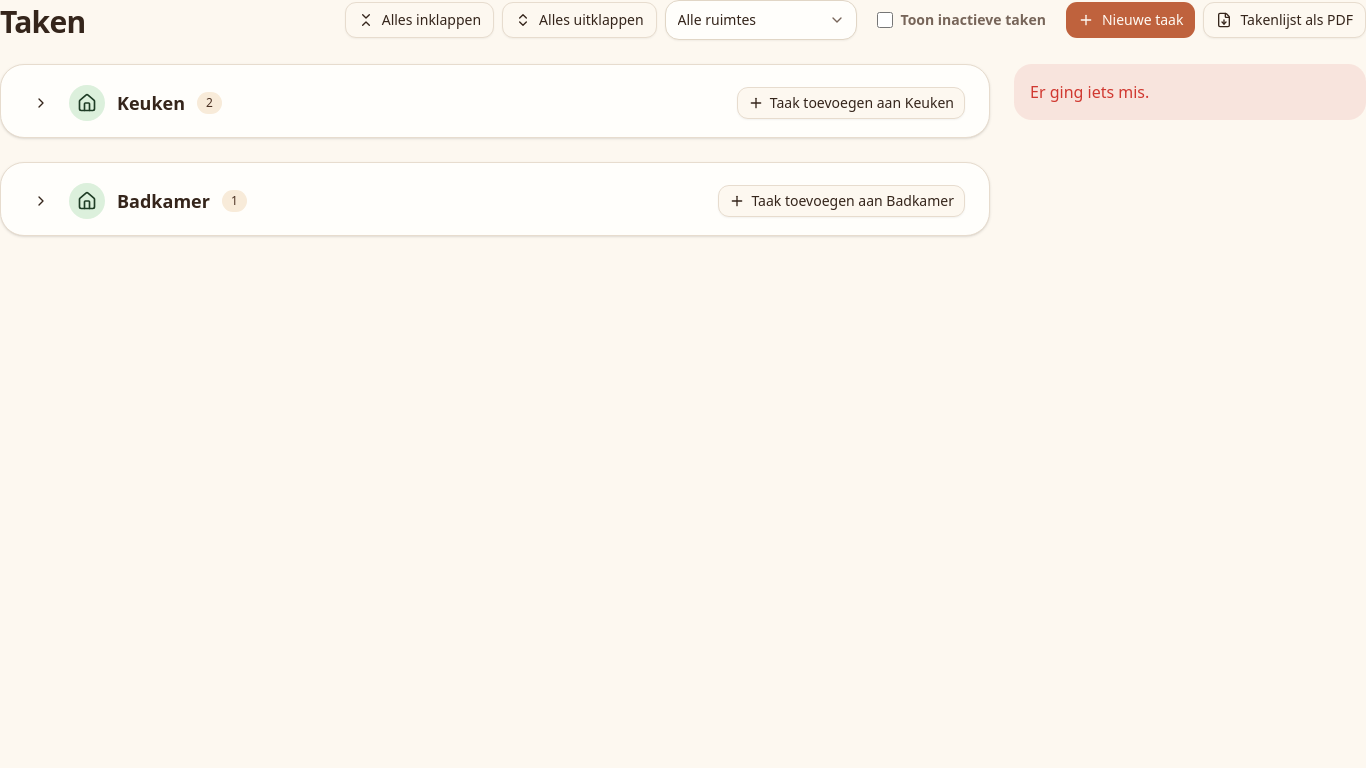
Test: TasksPage — form validation › flags every missing required field at once
Click the button "Nieuwe taak" at (1131, 20), box [1066,2,1196,38]
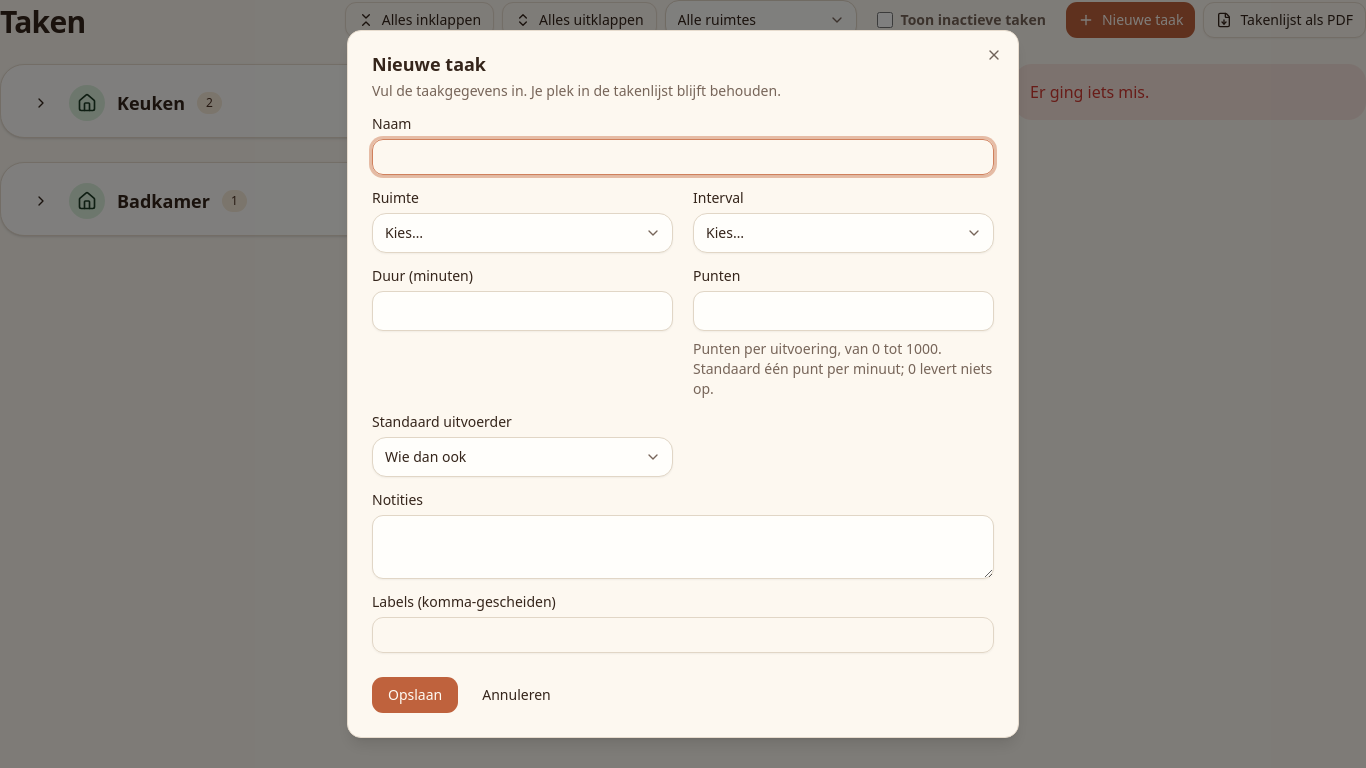
Click the button "Opslaan" at (415, 695), box [372,677,458,713]
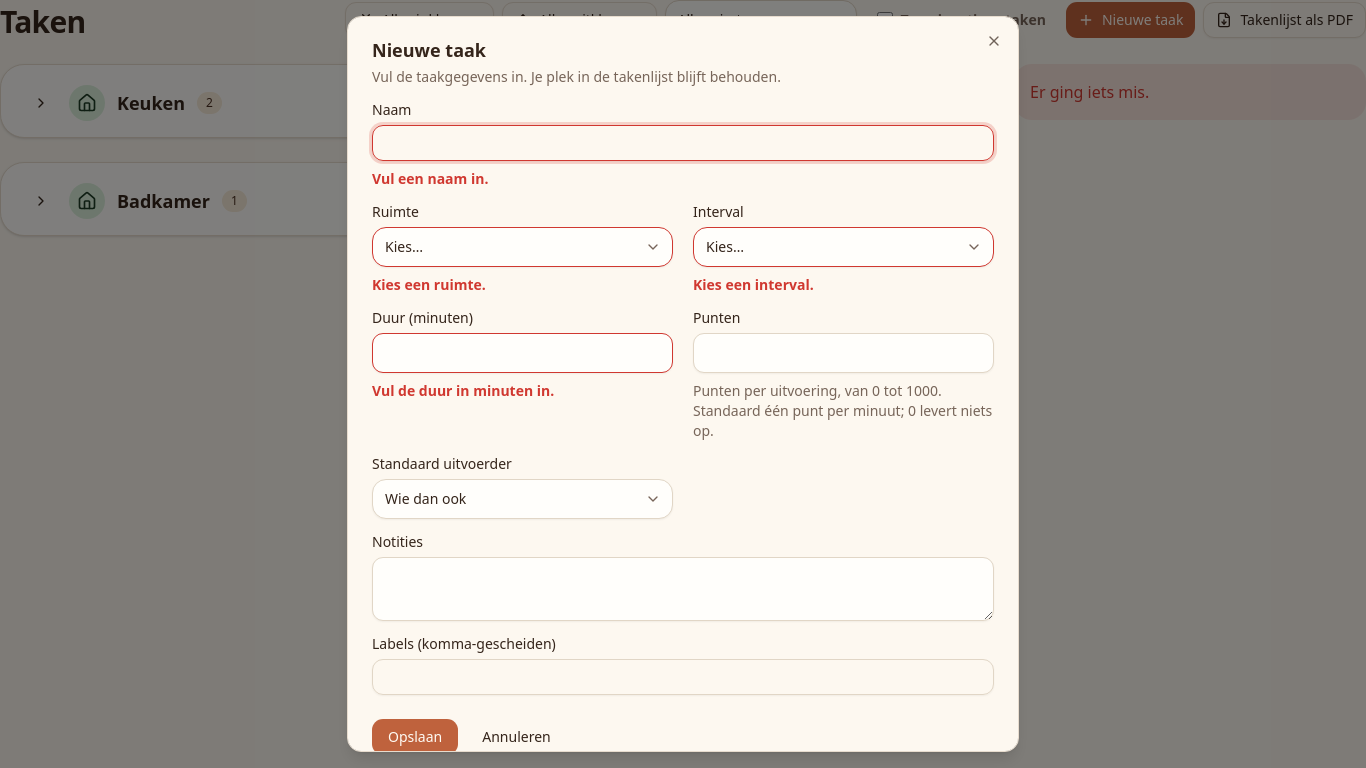
Expected: the messages read "Vul een naam in.", "Kies een ruimte.", "Kies een interval.", "Vul de duur in minuten in.", in this order, [372,169,488,188]; [372,275,486,294]; [693,275,814,294]; [372,381,554,400]
